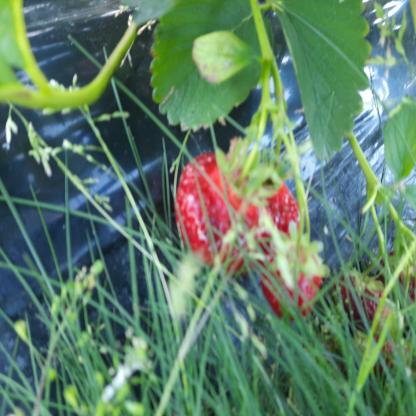ripe: (179, 157, 255, 270), (263, 244, 320, 310), (246, 182, 296, 238)
